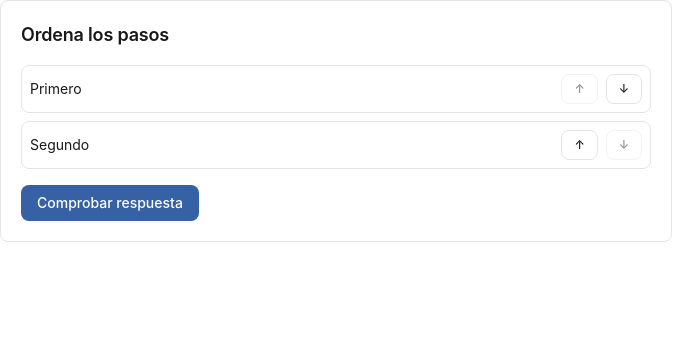
Test: SecureEvaluatedActivity retries › restores the starting order of a sort activity on retry
Click the button named "Bajar Primero": (624,89) [606,74,642,104]
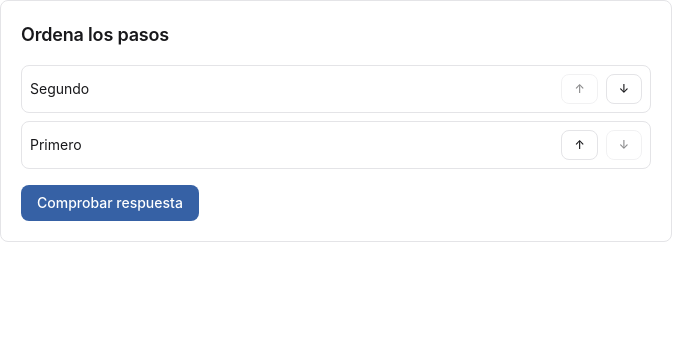
Click the button "Comprobar respuesta": (110,203) [21,185,199,221]
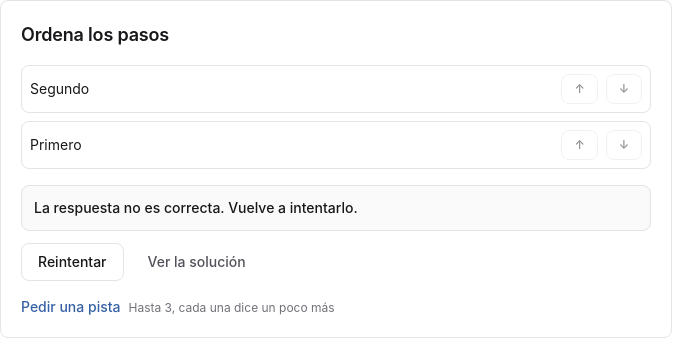
Check: the text "La respuesta no es correcta. Vuelve a intentarlo." is shown, box [34,199,358,216]
Click the button "Reintentar": (72,262) [21,243,124,281]
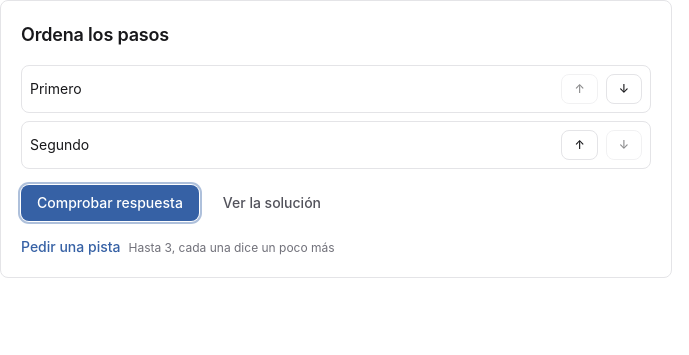
Check: the button named "Subir Primero" is disabled, box [561,74,598,104]
Check: the button named "Bajar Primero" is enabled, box [606,74,642,104]
Click the button "Comprobar respuesta": (110,203) [21,185,199,221]
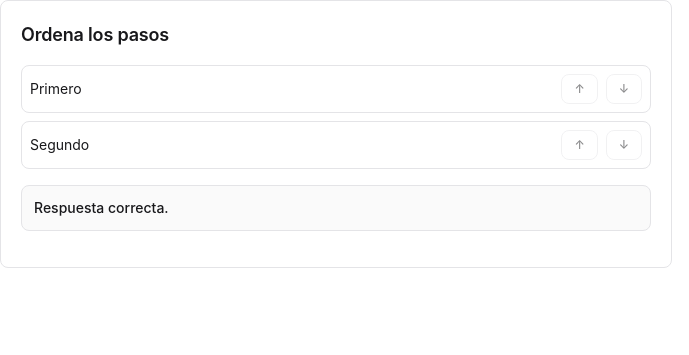
Check: the text "Respuesta correcta." is shown, box [34,199,169,216]
